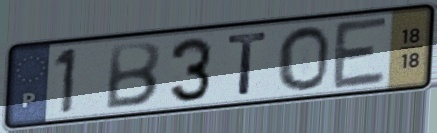1: (53, 45, 81, 118)
3: (167, 34, 215, 104)
B: (101, 39, 163, 111)
E: (330, 13, 391, 92)
O: (276, 24, 331, 93)
T: (225, 29, 271, 98)
